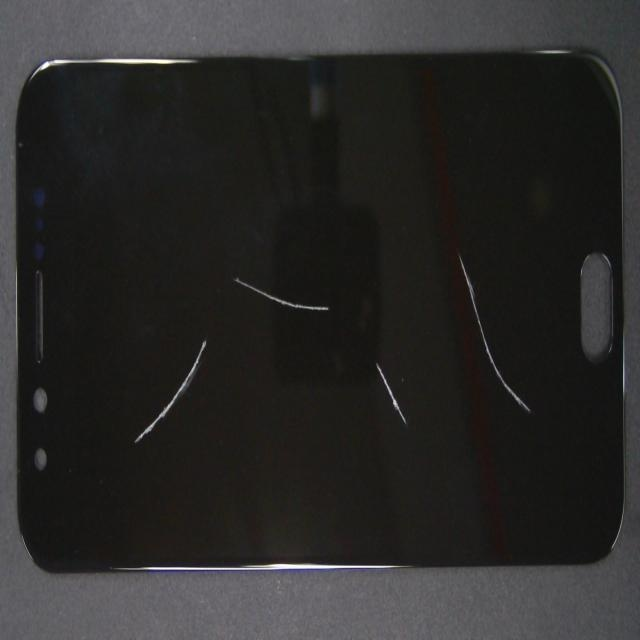scratch: (272, 219, 640, 602), (236, 235, 609, 583), (225, 163, 453, 434), (147, 84, 262, 540)
